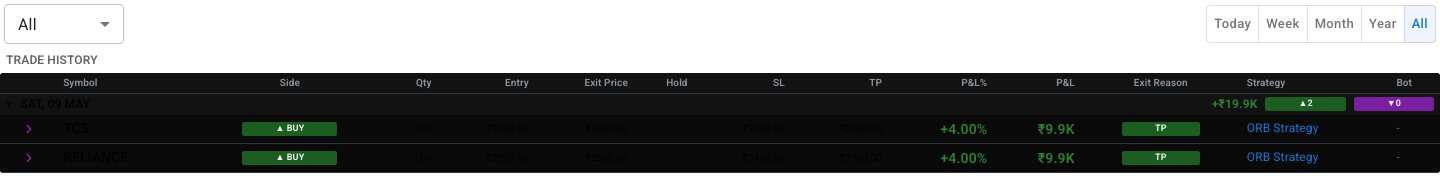
Test: PaperHistoryTable › trade history table rendering › collapses a day group when its header row is clicked
The width and height of the screenshot is (1440, 190).
Expected: the row with test id "trade-row-t1" is shown, [0, 143, 1439, 172]
Click the element with test id "day-header-2026-05-09". click: (55, 104)
box: [0, 94, 1439, 115]
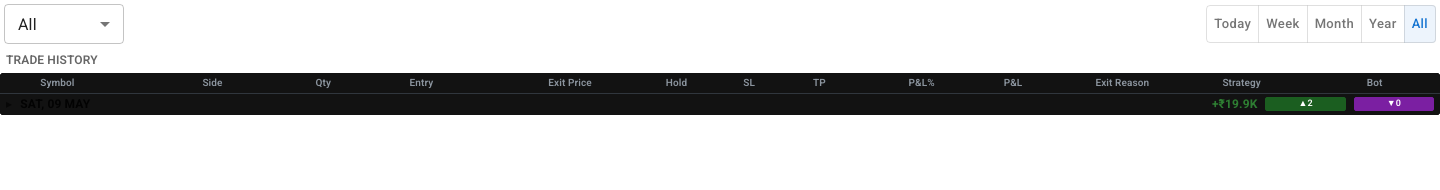
Expected: the row with test id "trade-row-t1" is gone
Expected: the row with test id "trade-row-t2" is gone
